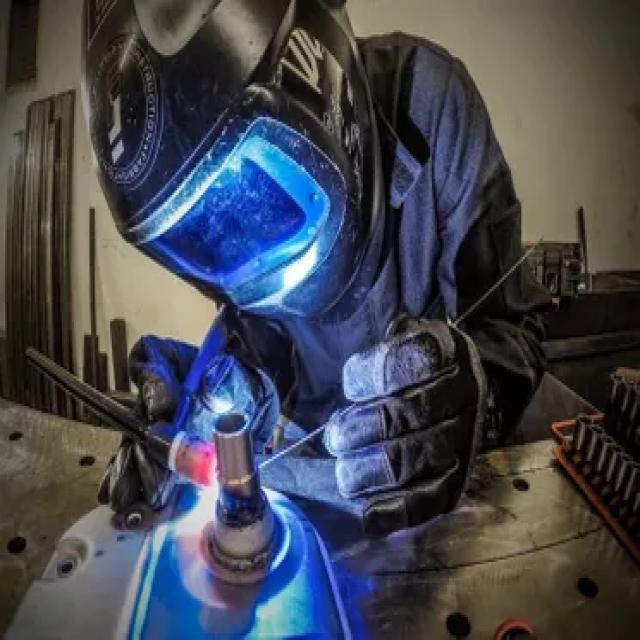with_helmet: (74, 3, 432, 332)
